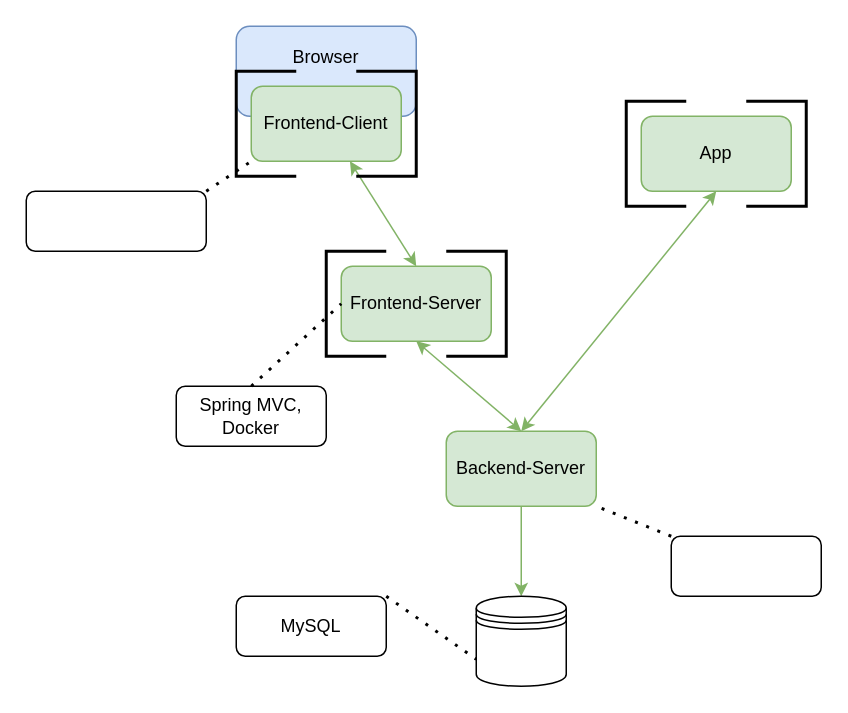
Some shapes in this 848 by 713 pixel diagram are drawn without their labels. Each missing label, with the centre of its shape:
"DB" goes at pixel 520 640.
"HTML, CSS, JavaScript" goes at pixel 115 220.
"Spring Boot, Docker" goes at pixel 745 565.
